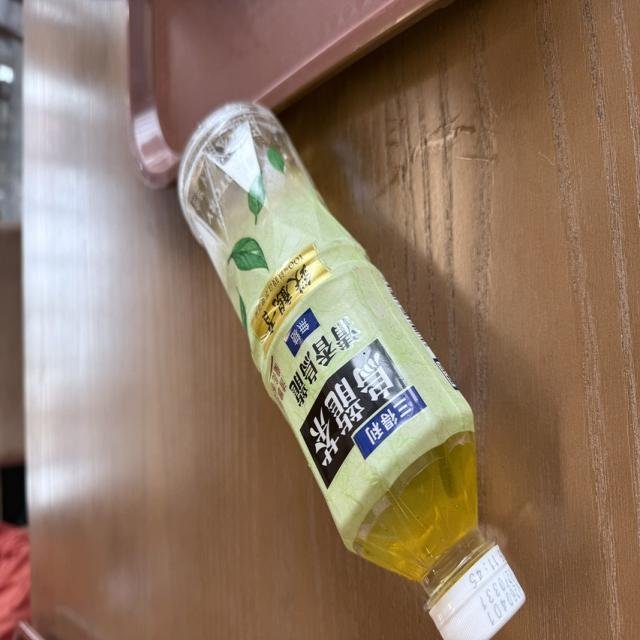high: (179, 103, 518, 587)
